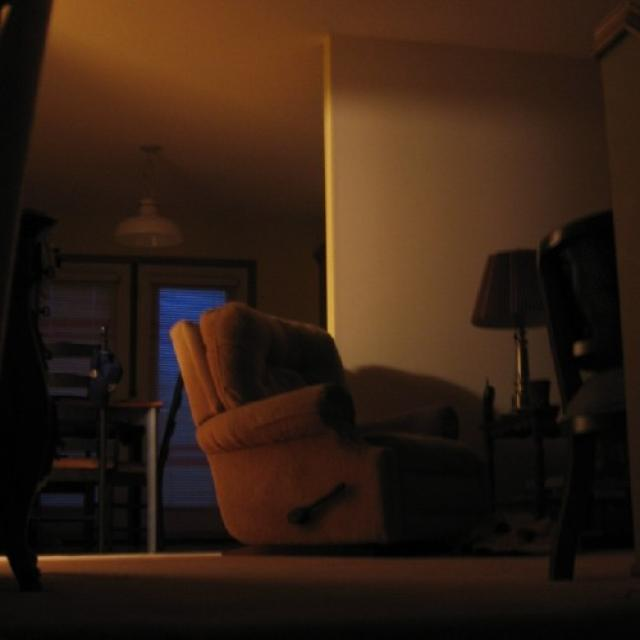Table: (1, 372, 165, 524), (471, 375, 585, 543)
chair: (161, 277, 504, 640), (543, 187, 640, 611)
